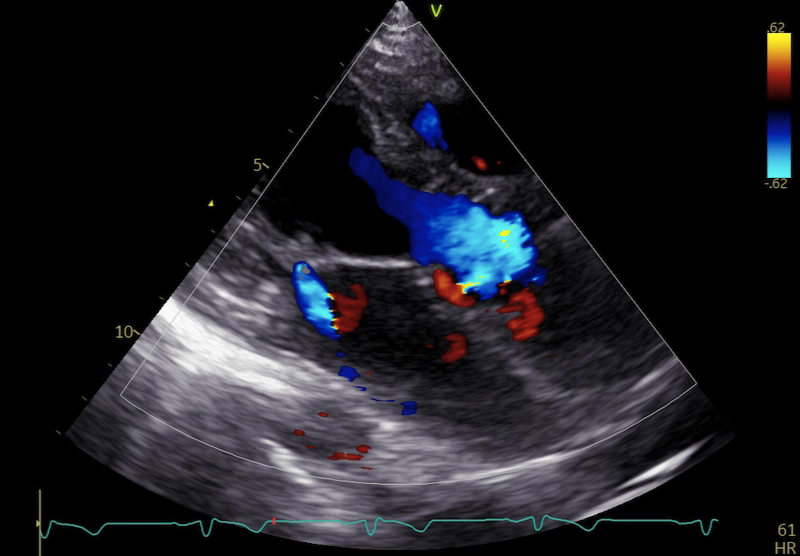MR: (295, 232, 337, 330)
